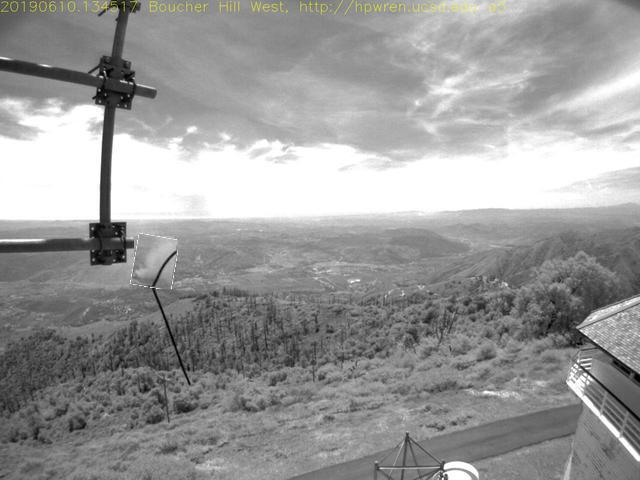smoke: (133, 236, 178, 290)
